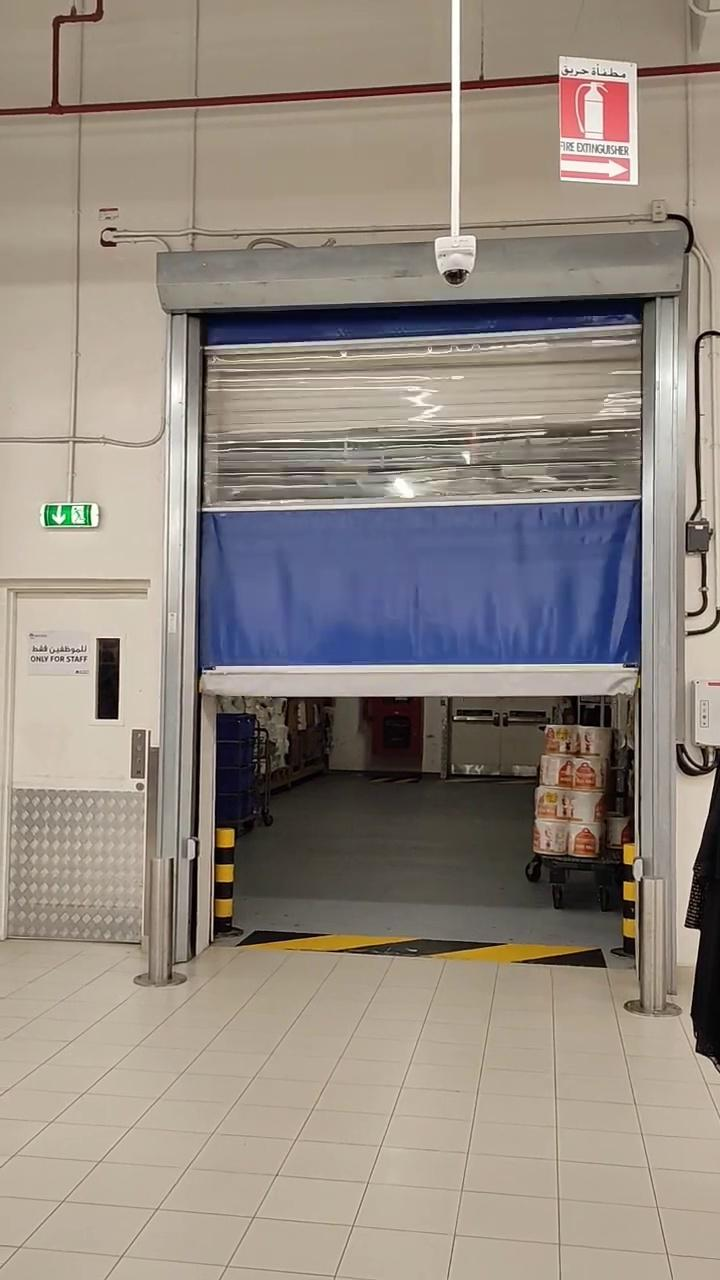Strip: (248, 920, 601, 971)
